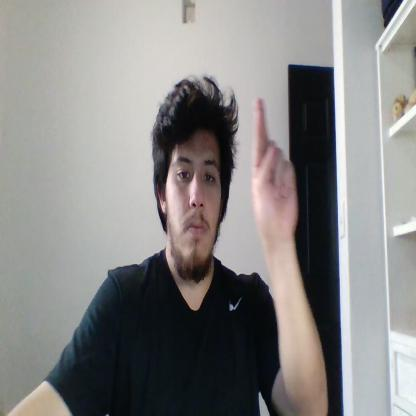R: (253, 96, 298, 239)
